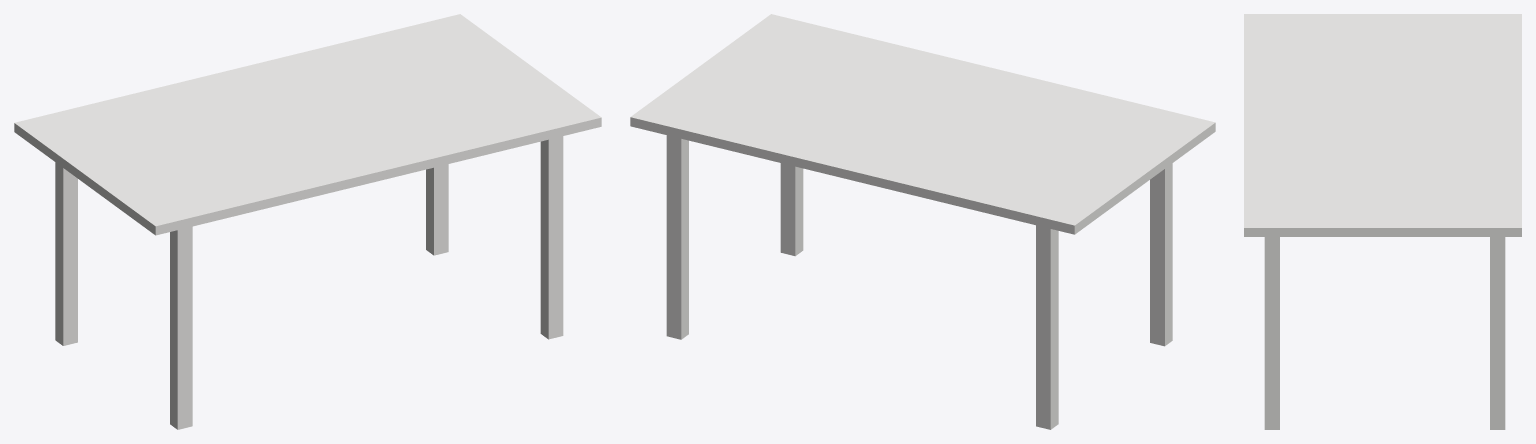
The model's file is Table_6_231109.glb.
The picture shows the model from 3 angles, left to right: view 1: azimuth 30°, elevation 25°; view 2: azimuth 150°, elevation 25°; view 3: azimuth 270°, elevation 25°; orthographic projection.
Visible parts, largest first — view 1: Table_6; view 2: Table_6; view 3: Table_6.
Part boxes in pixels (x1=…): Table_6: x1=14, y1=14, x2=601, y2=429; Table_6: x1=630, y1=14, x2=1215, y2=429; Table_6: x1=1244, y1=14, x2=1521, y2=429.
Bounding box in the file's own units: 2.27 × 1.07 × 1.25.
1 material, 1 textured.
